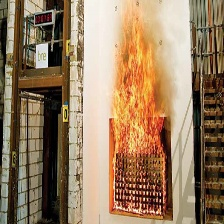fire: (113, 1, 166, 217)
